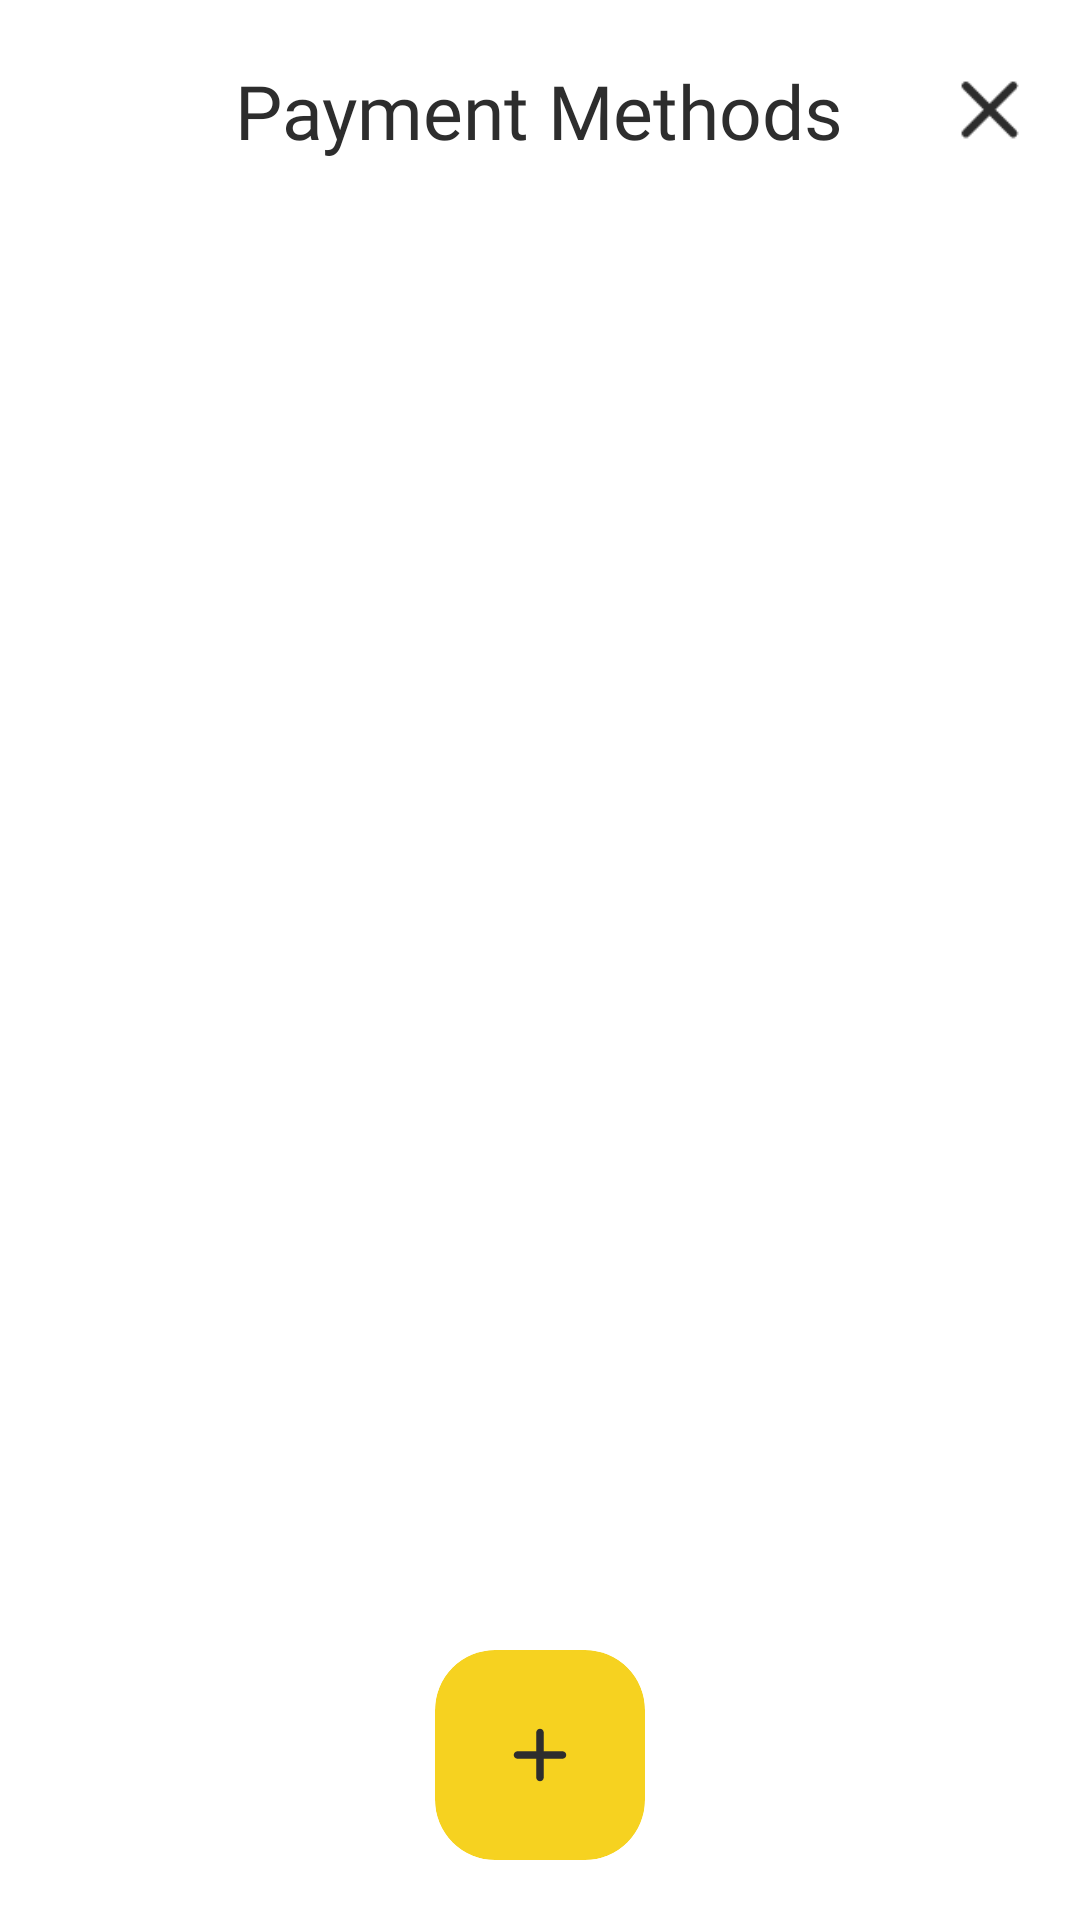

Where to tap for icons on this 1080 x 1920 app screen, as point (x, y):
add: point (540, 1755)
close: point (990, 110)
